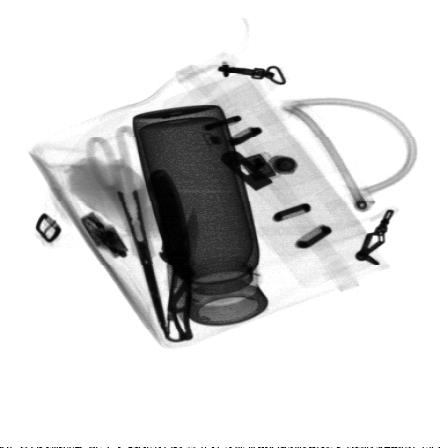Knife: (146, 169, 190, 327), (165, 207, 198, 342)
Scissors: (85, 124, 166, 337)
